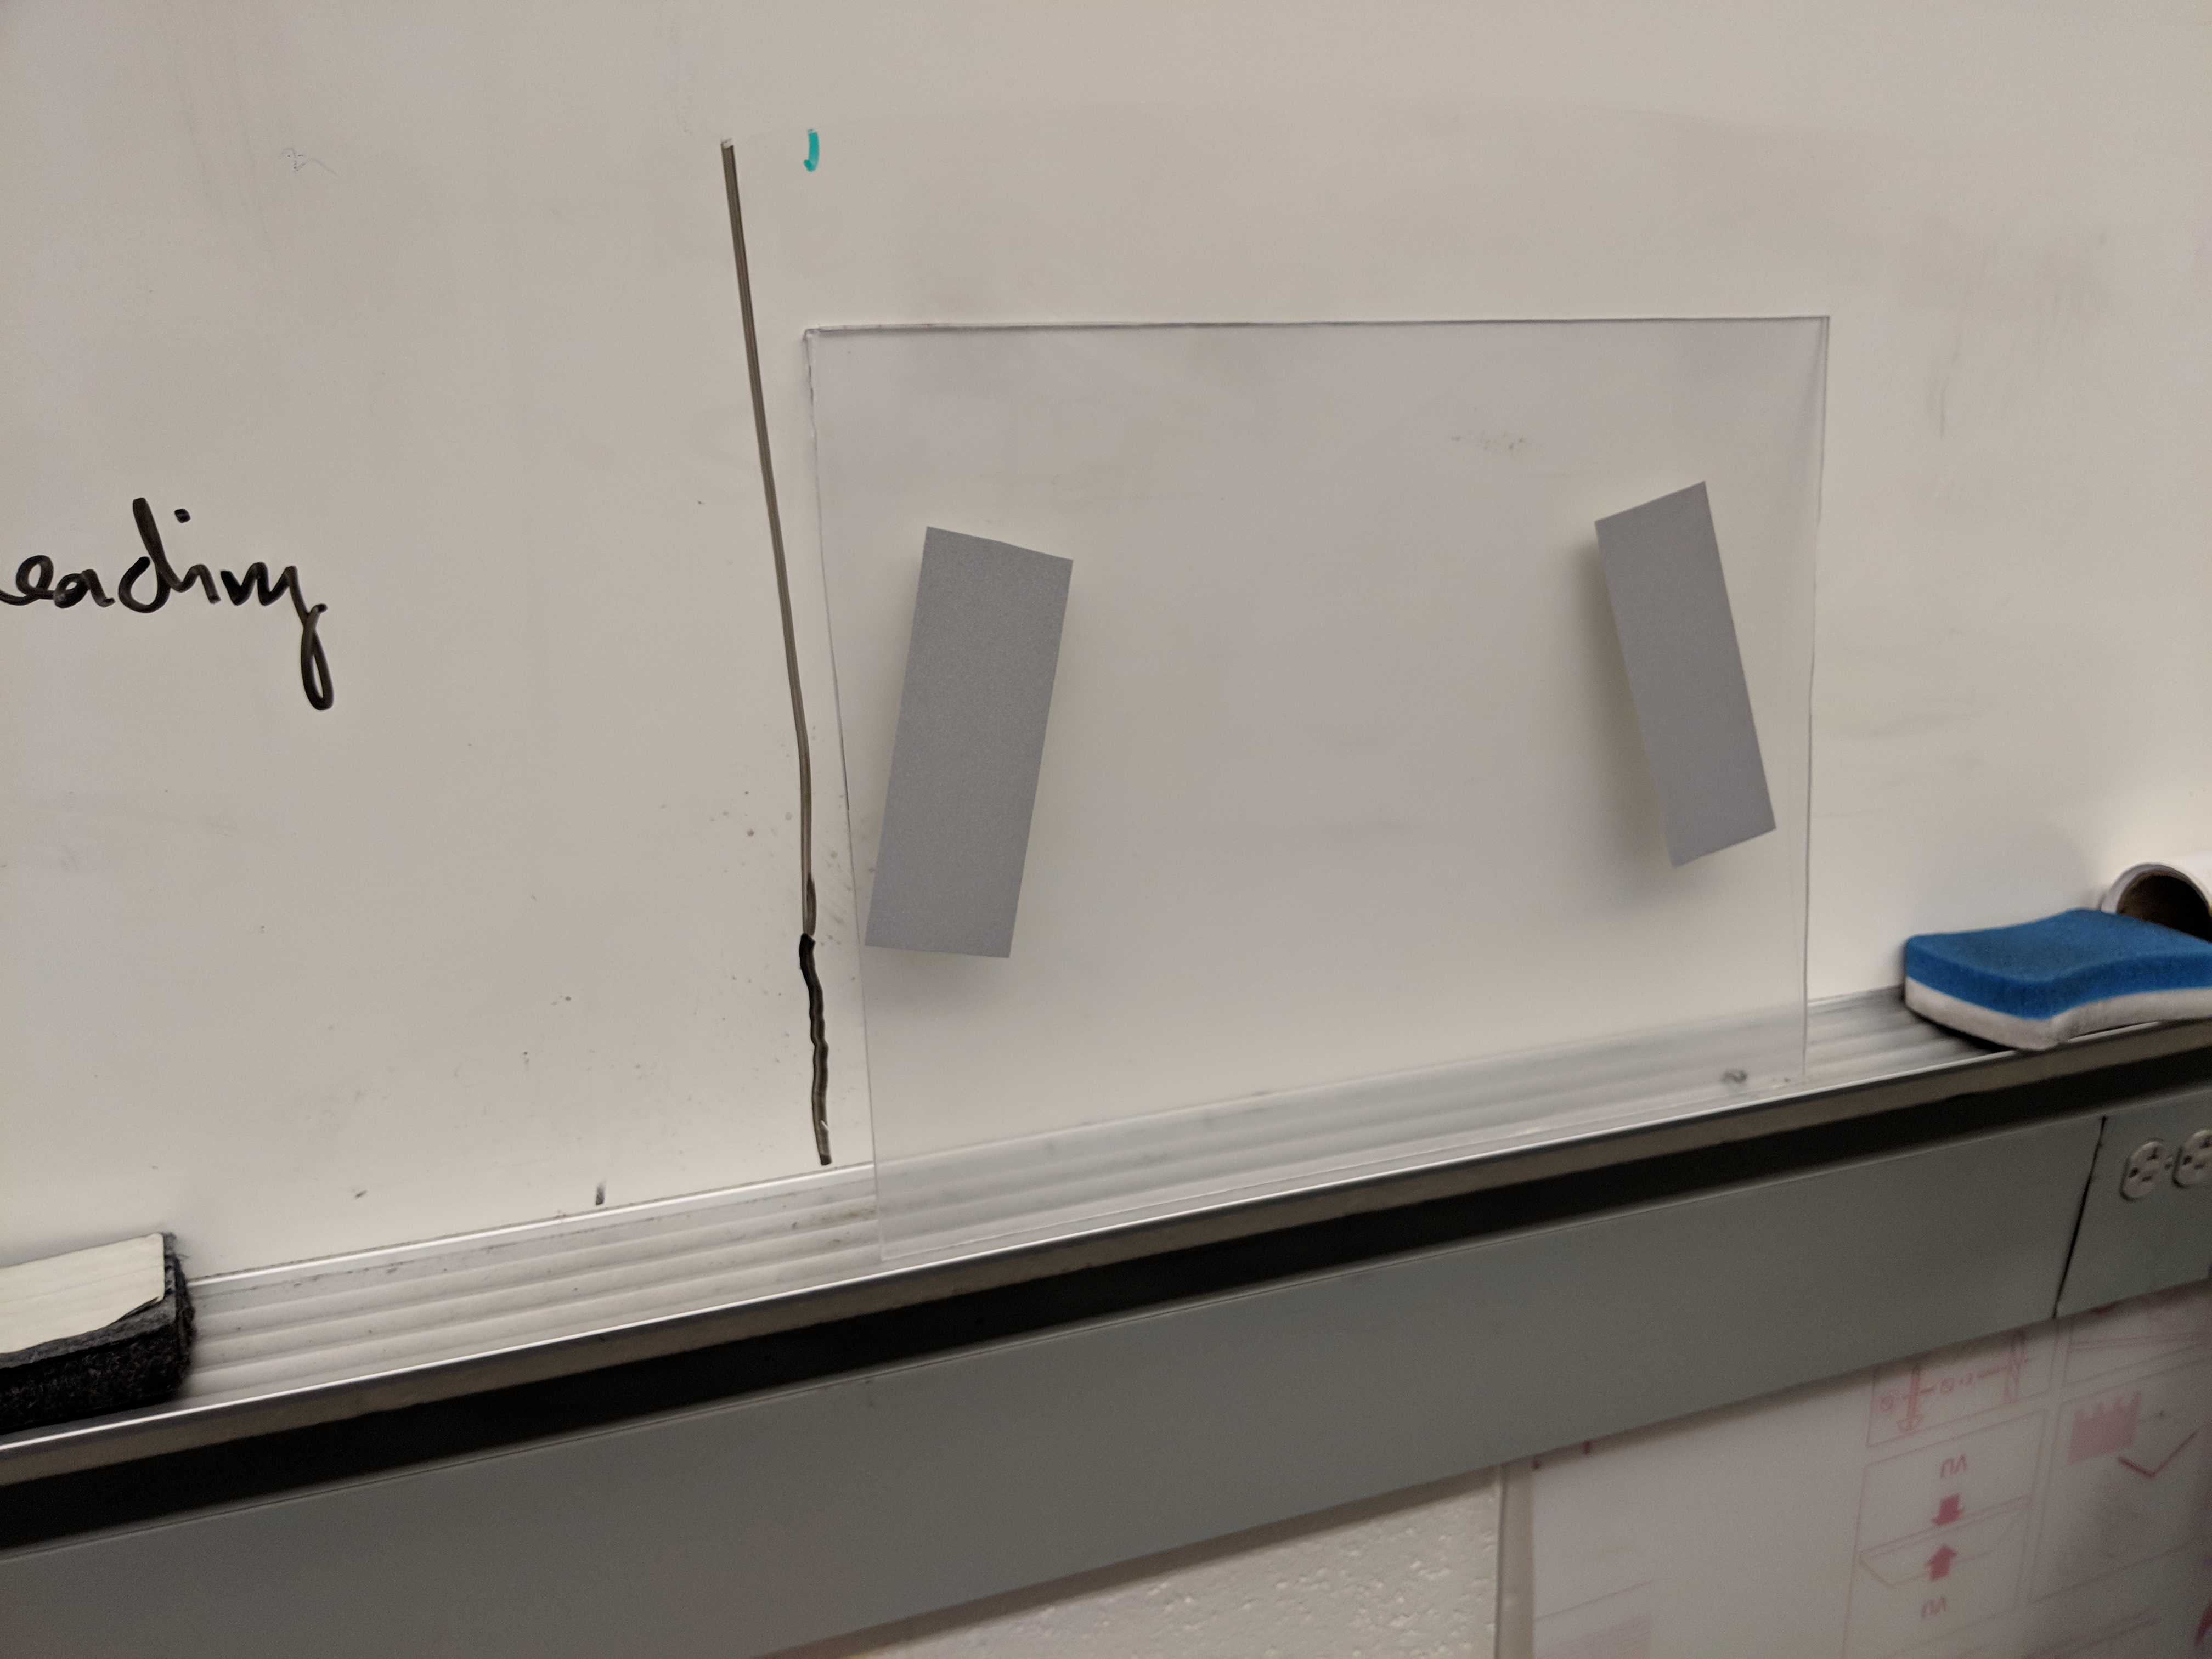vision_target: (853, 477, 1811, 969)
